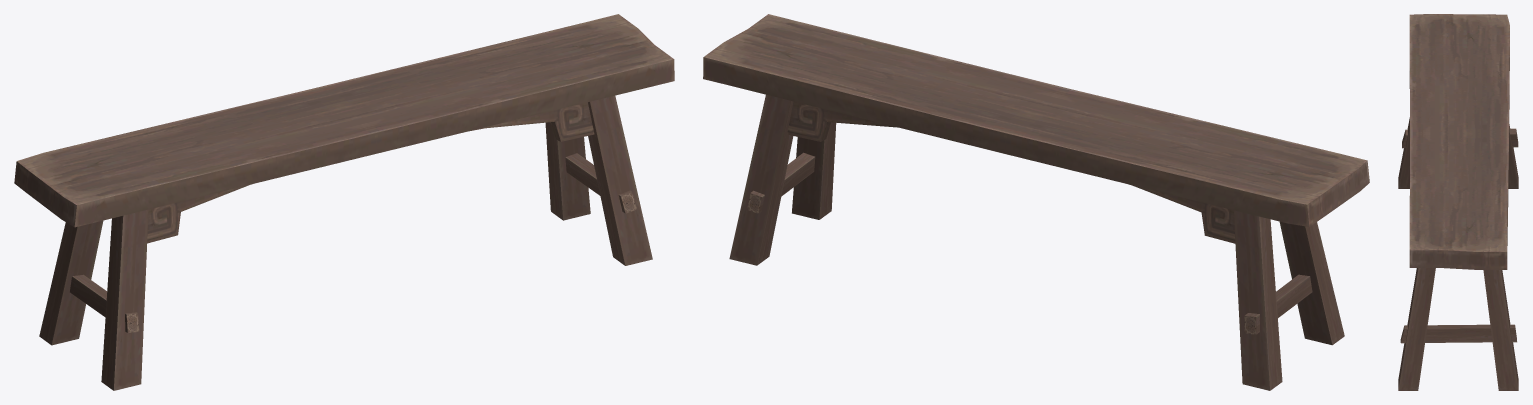
Rendered from Homeworld_Interior_Cyg_Chair_Prop_Mutou_01_Vo.fbx.
3 views of the same model, side by side, from view 1: azimuth 30°, elevation 25°; view 2: azimuth 150°, elevation 25°; view 3: azimuth 270°, elevation 25° (orthographic). The views are drawn at different scales.
Visible parts, largest first — view 1: Area_Cyg_Prop_QYZ_Chair_01_Vo; view 2: Area_Cyg_Prop_QYZ_Chair_01_Vo; view 3: Area_Cyg_Prop_QYZ_Chair_01_Vo.
Boxes of the visible parts, <box> form: Area_Cyg_Prop_QYZ_Chair_01_Vo: <box>14,14,674,390</box>; Area_Cyg_Prop_QYZ_Chair_01_Vo: <box>703,14,1369,390</box>; Area_Cyg_Prop_QYZ_Chair_01_Vo: <box>1398,14,1518,390</box>.
Size of the model in its own units: 1.67 by 0.4937 by 0.3545.
